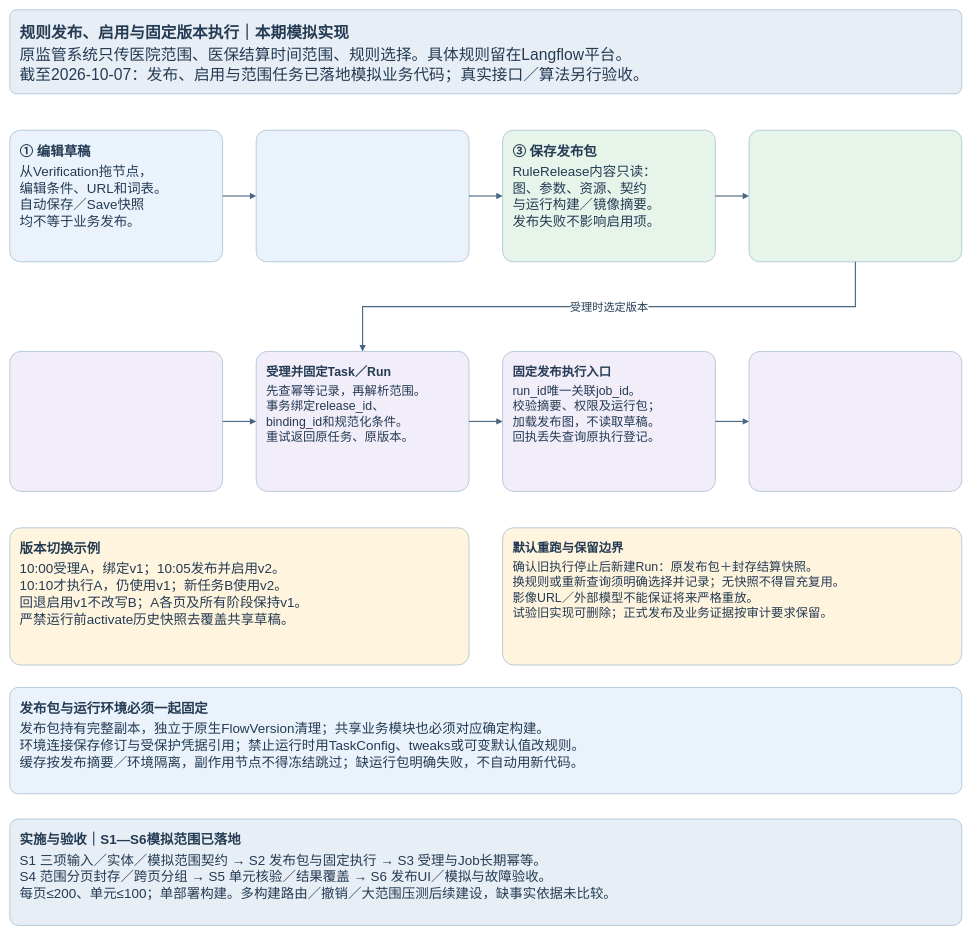
Image size: 972x936. Some labels were removed from this diagram. The shapes that lost their labels are listed below. From the top down, each one's centre as x and y in pixels, then its label:
At point (362, 196): "② 校验同一候选 校验连通、参数、依赖 及模拟模式／执行权限。 验证结果绑定内容摘要； 编辑后须重新校验。".
At point (855, 196): "④ 显式启用版本 方案＋环境 → 发布包。 原子切换并校验修订号； 只影响后续新任务。 历史正式版本不改写。".
At point (116, 421): "监管三项业务配置 医院：常州市第一人民医院 结算：2024-06至2025-08 规则：高值耗材智能体 编号／鉴权由后端处理。".
At point (855, 421): "00—08核验与保存 01分页封存，02跨页分组。 各阶段按单元落库传引用。 08核对覆盖后提交汇总； Job成功仍须业务保存回执。".
